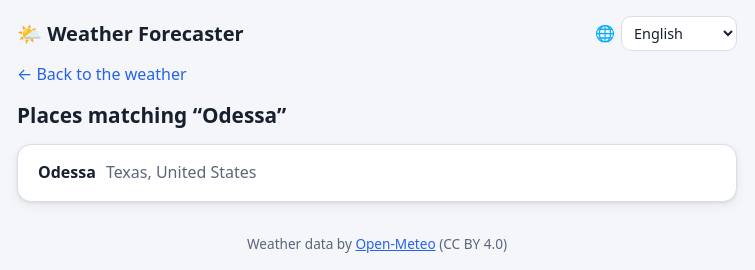
Test: SearchPage › reloads the places list in a new language
The width and height of the screenshot is (755, 270).
Select "Čeština" in the dropdown labelled "🌐" at coordinates (679, 34), box [621,16,737,51]
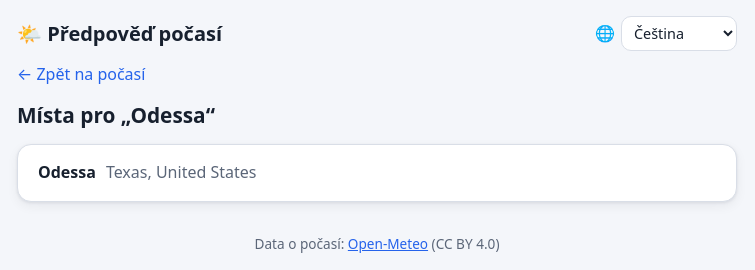
Check: the heading "Místa pro „Odessa“" is shown, box [17,101,215,129]
